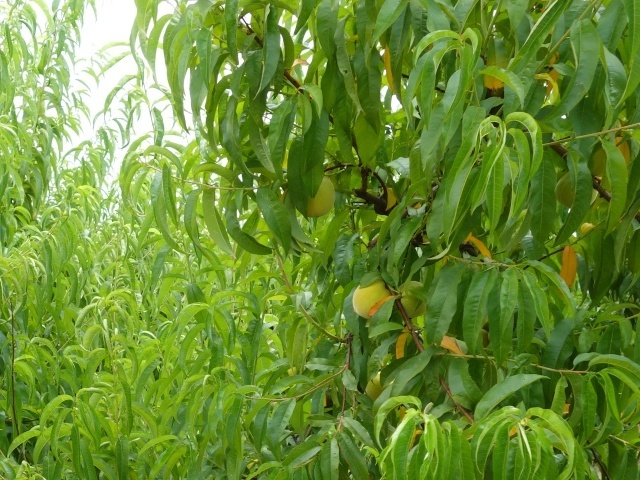peach: (551, 166, 601, 213), (349, 271, 392, 322), (302, 172, 338, 225), (395, 277, 432, 319)
